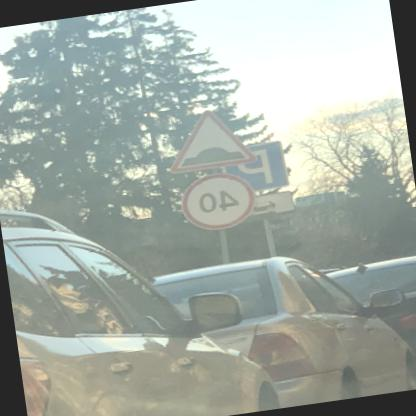speedlimit: (180, 166, 262, 232)
